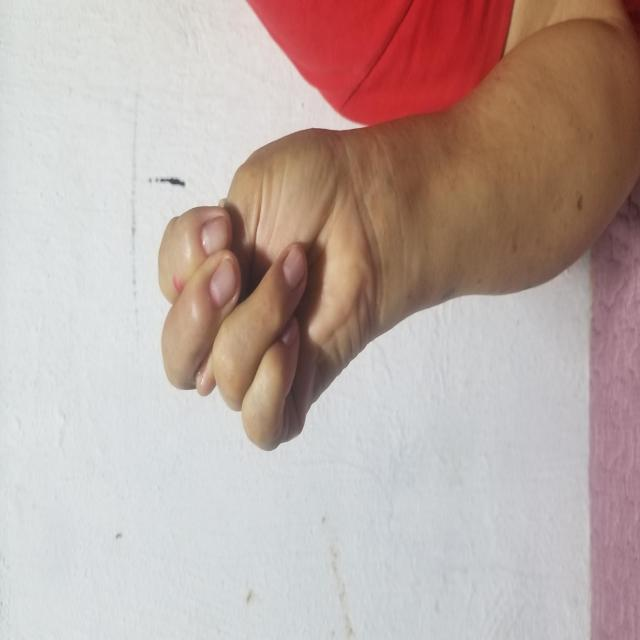N: (118, 100, 449, 485)
